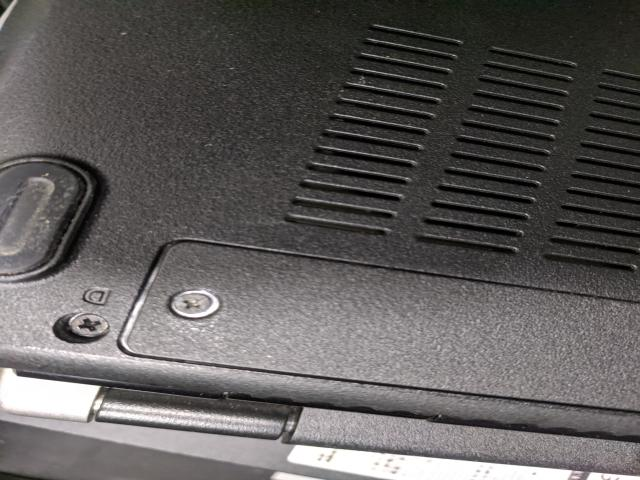CRS: (168, 292, 219, 314), (69, 314, 112, 338)
